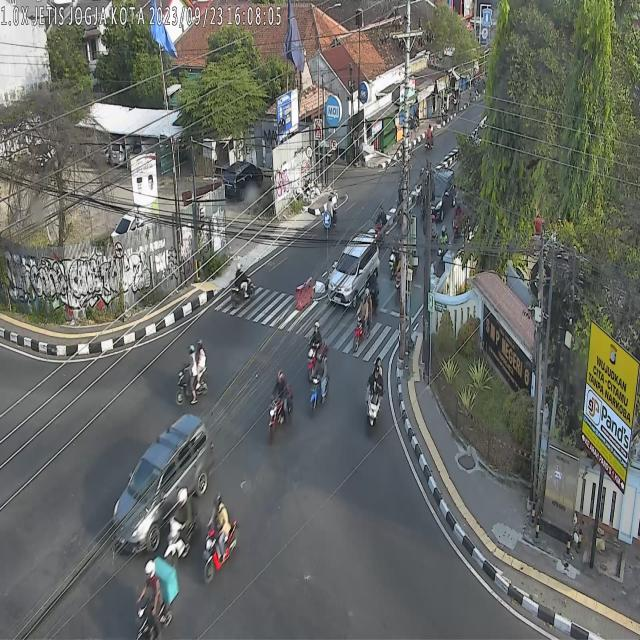car: (111, 414, 214, 554), (328, 232, 379, 307), (421, 169, 457, 221)
motorcycle: (134, 556, 178, 640), (202, 492, 238, 583), (162, 486, 200, 566), (175, 338, 211, 408), (266, 369, 295, 446), (364, 354, 383, 438), (310, 349, 329, 418), (307, 322, 328, 382), (353, 288, 372, 353), (230, 261, 254, 310), (364, 267, 380, 317), (374, 204, 388, 246), (389, 233, 401, 281), (324, 194, 338, 229), (452, 200, 463, 242), (437, 228, 449, 260), (394, 258, 401, 306), (424, 122, 434, 155)
